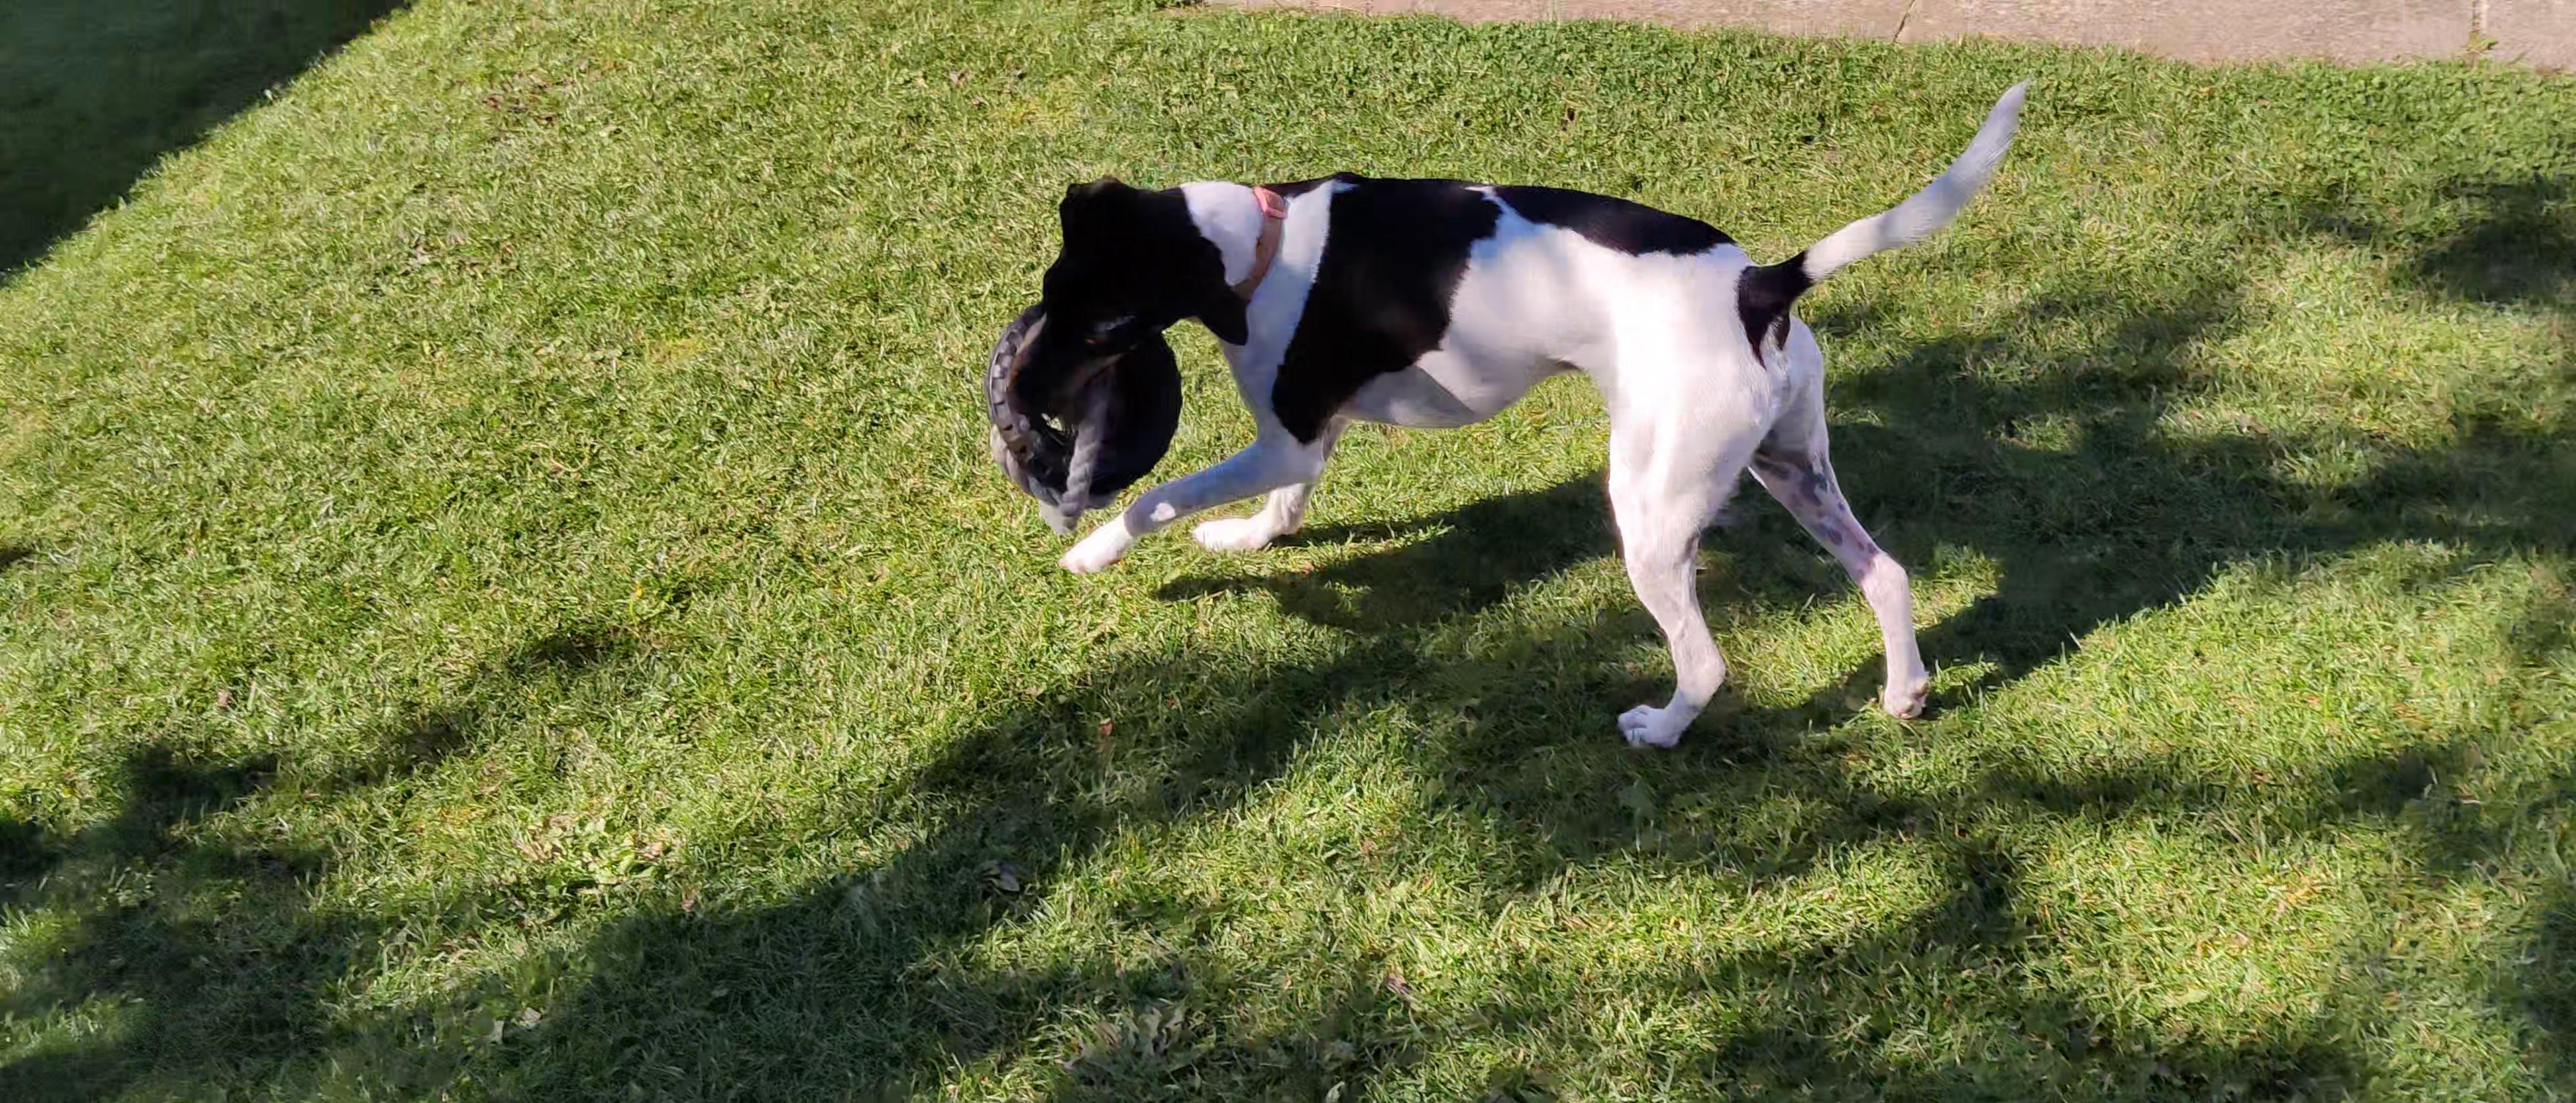Dog: (1005, 53, 2049, 756)
